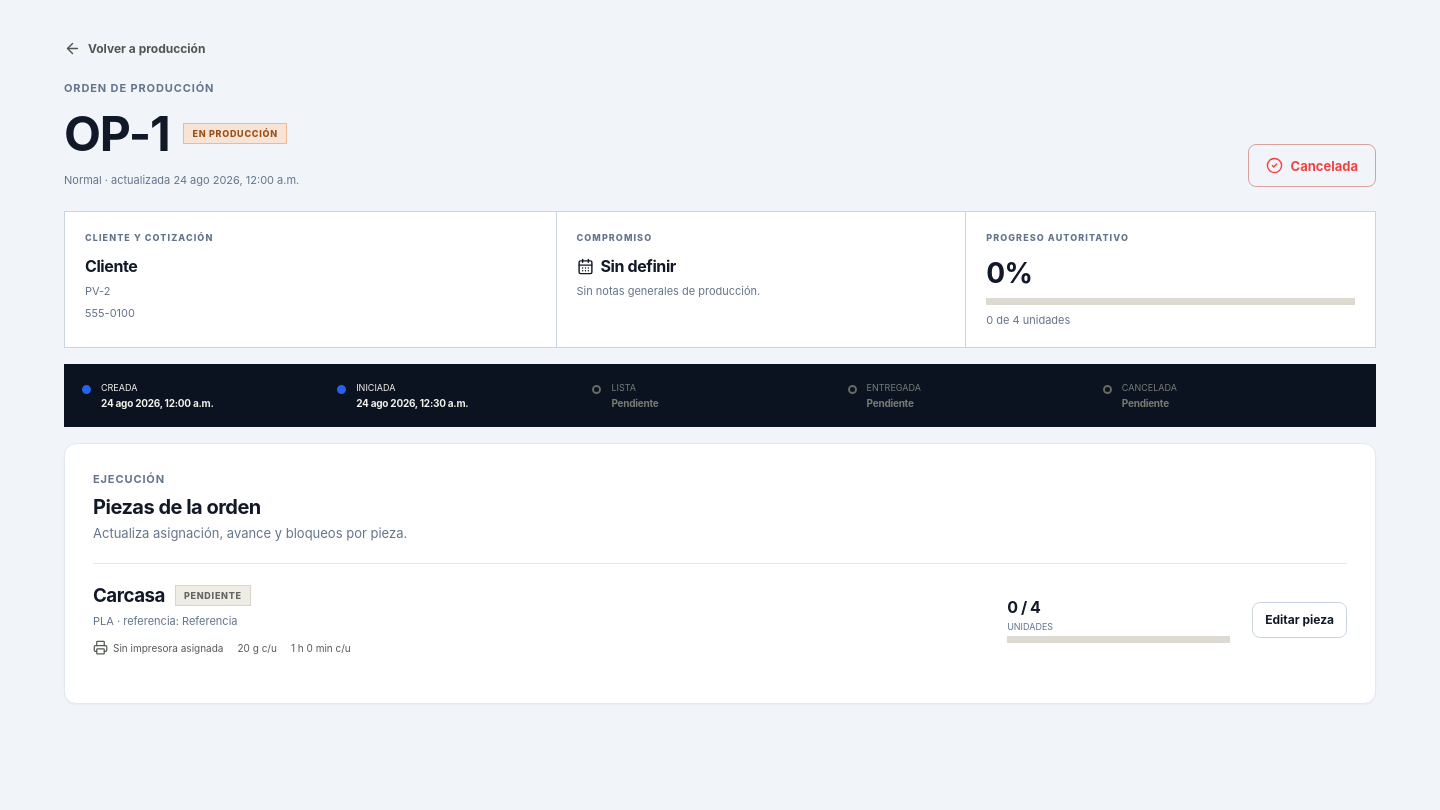
Test: editor de piezas de producción › conserva el editor cuando otra pieza ocupa la impresora seleccionada
Click the button "Editar pieza" at {"x": 1300, "y": 620}, box 1252,602 -> 1347,638
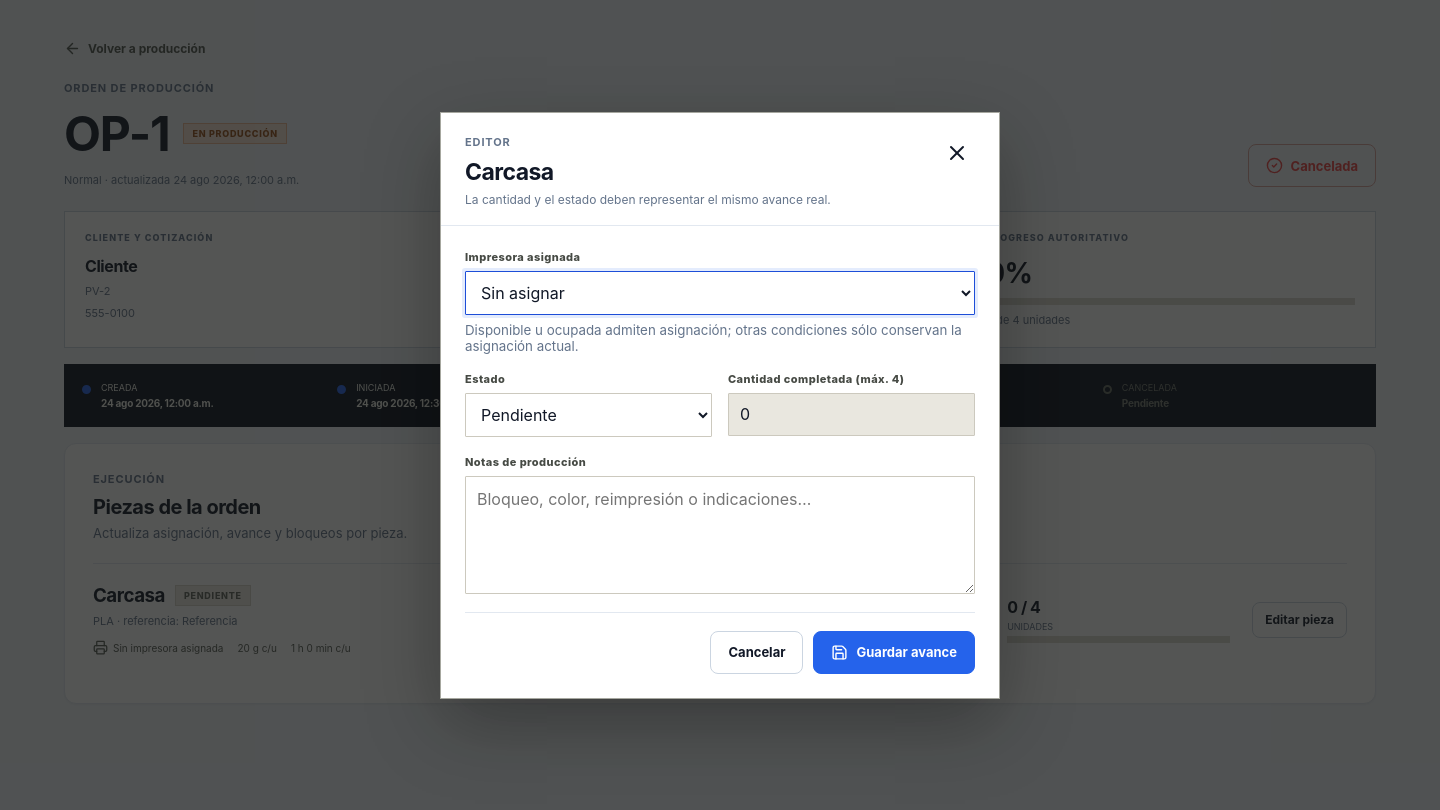
Select "Printer 1 · Disponible" in the dropdown labelled "Impresora asignada" at {"x": 720, "y": 292}, box 465,270 -> 975,314
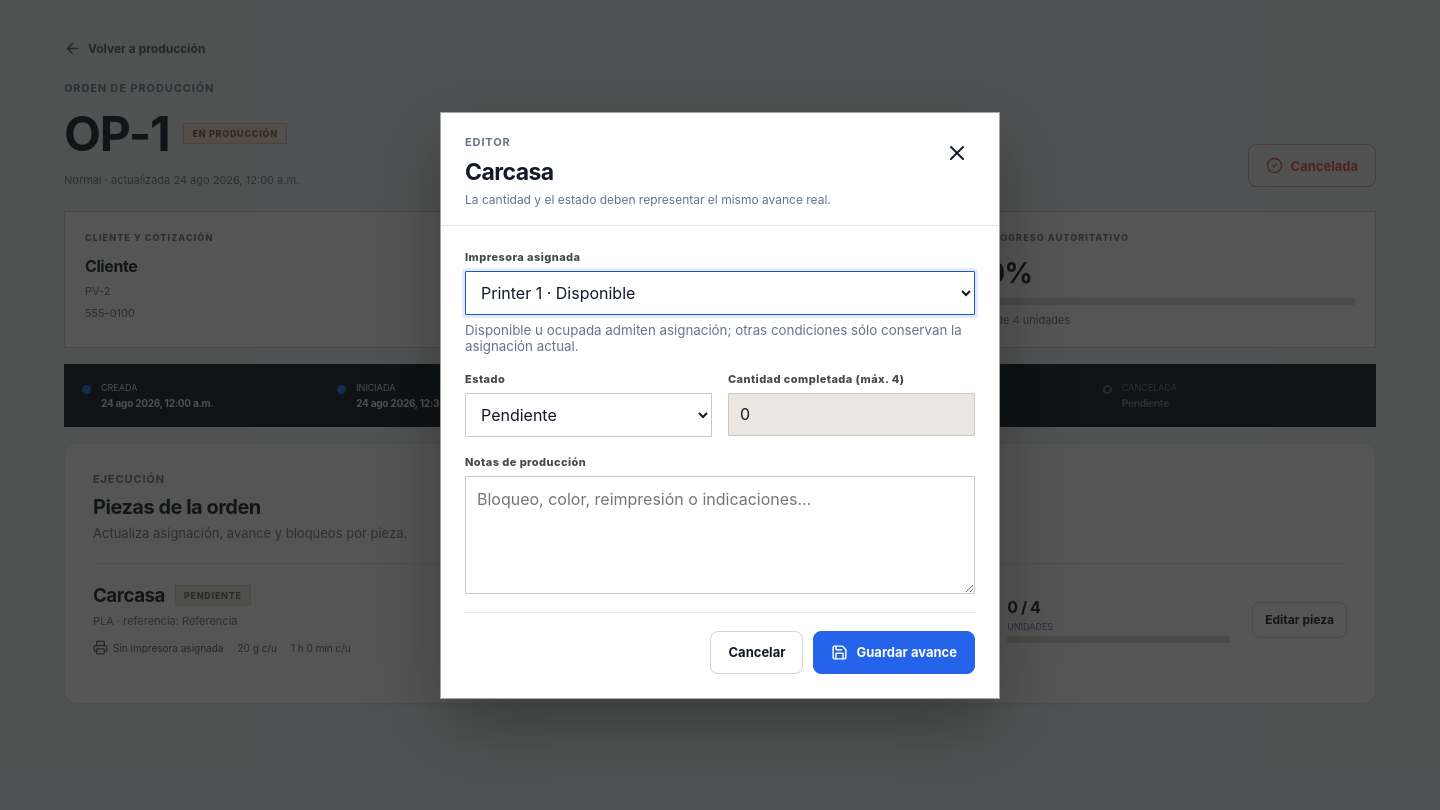
Select "En proceso" in the dropdown labelled "Estado" at {"x": 588, "y": 414}, box 465,392 -> 712,436
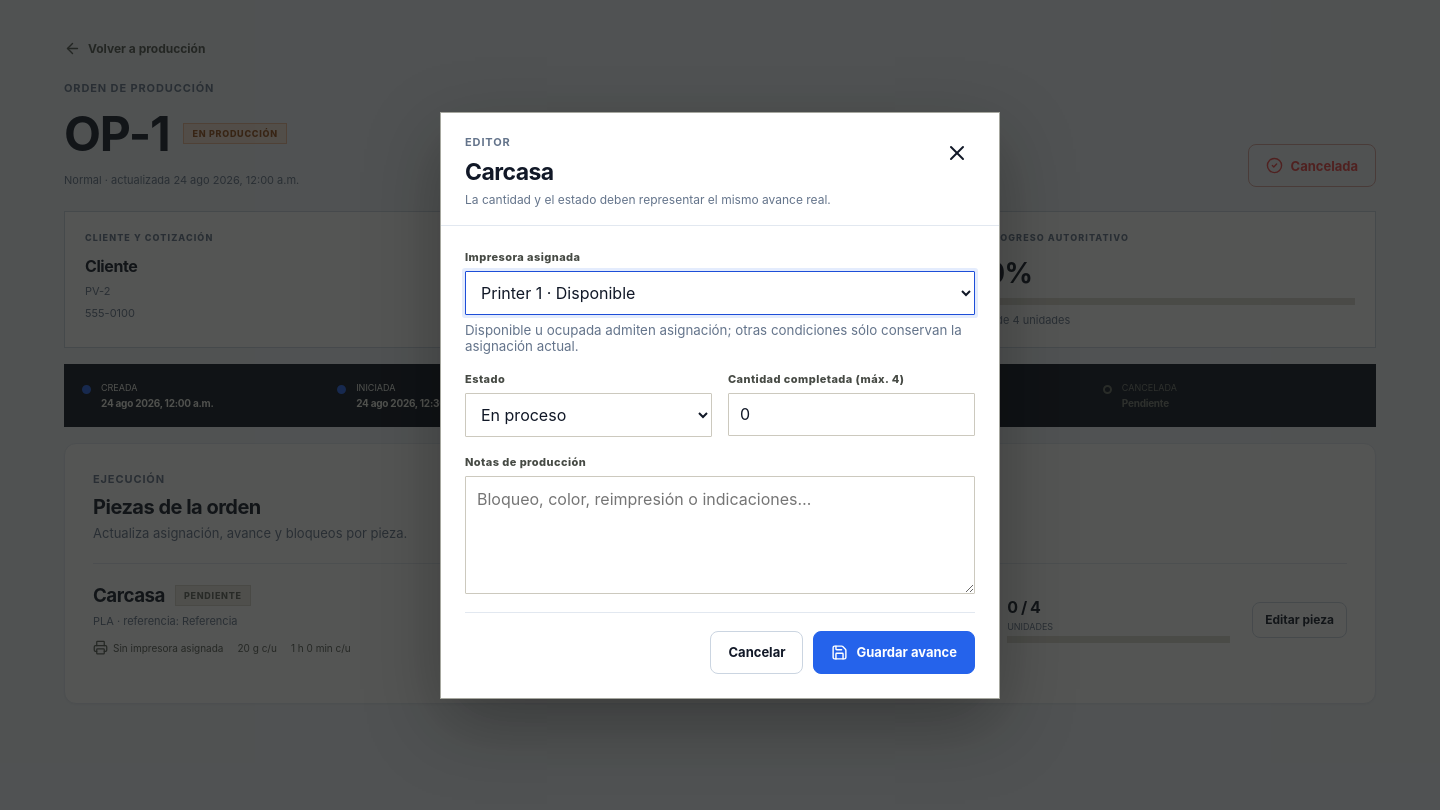
Click the button "Guardar avance" at {"x": 894, "y": 652}, box 814,630 -> 975,674
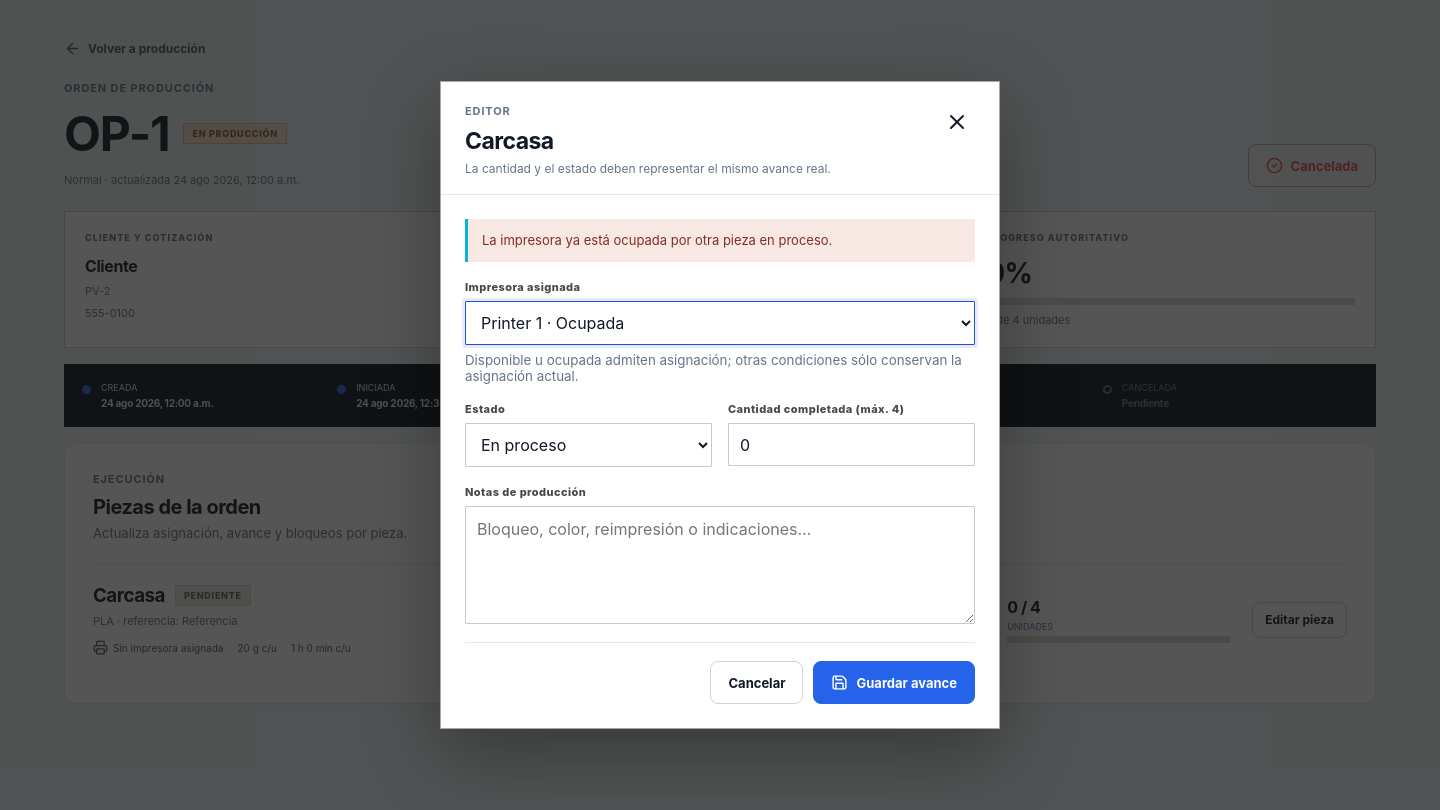
Expected: the dialog is shown, 440,81 -> 1000,729
Expected: the message reads "La impresora ya está ocupada por otra pieza en proceso.", 482,232 -> 832,248
